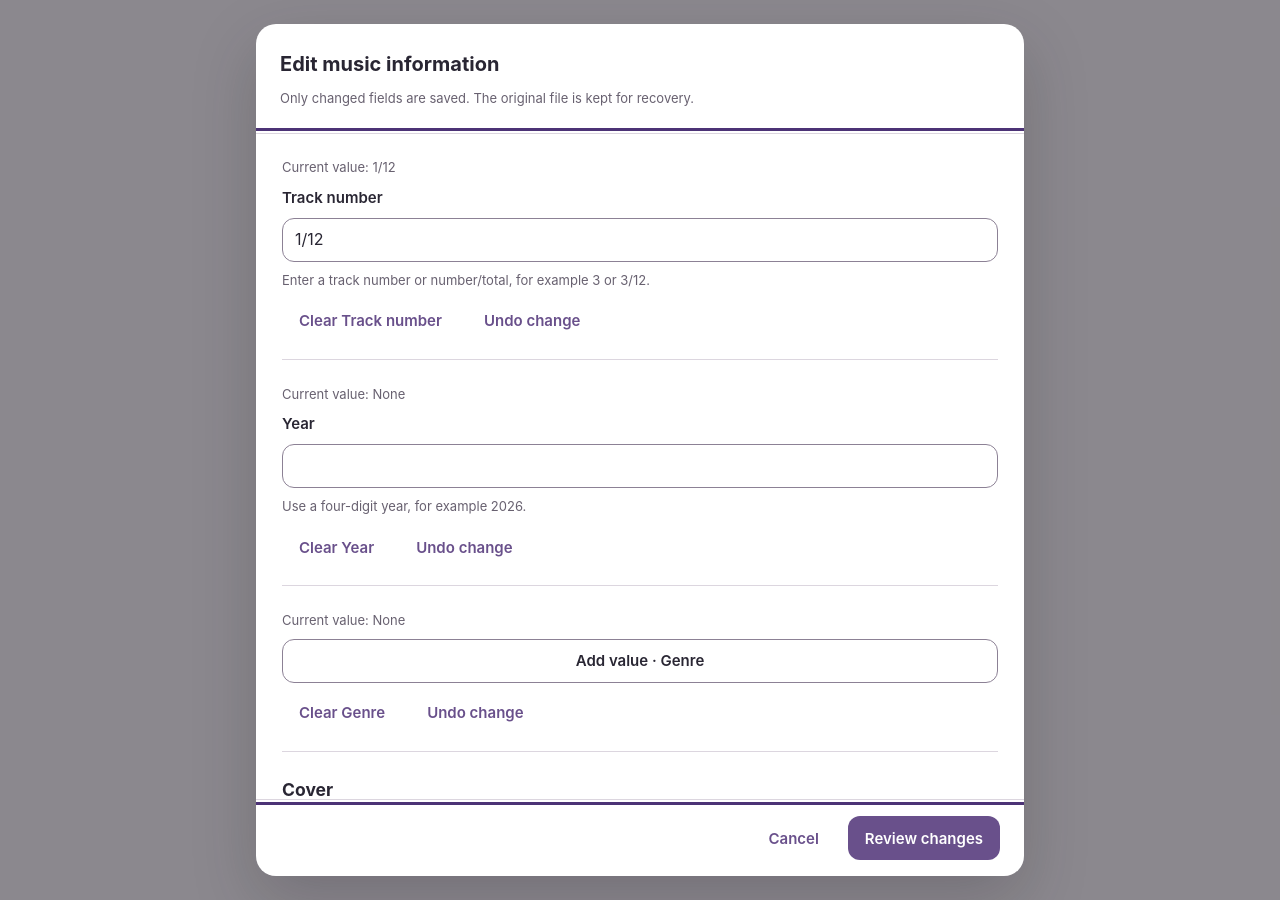
Test: should restore the original absent value when undoing a field edit
(page scrolled)
Type "2026" into the field labelled "Year" at [640, 466], box [282,444,998,488]
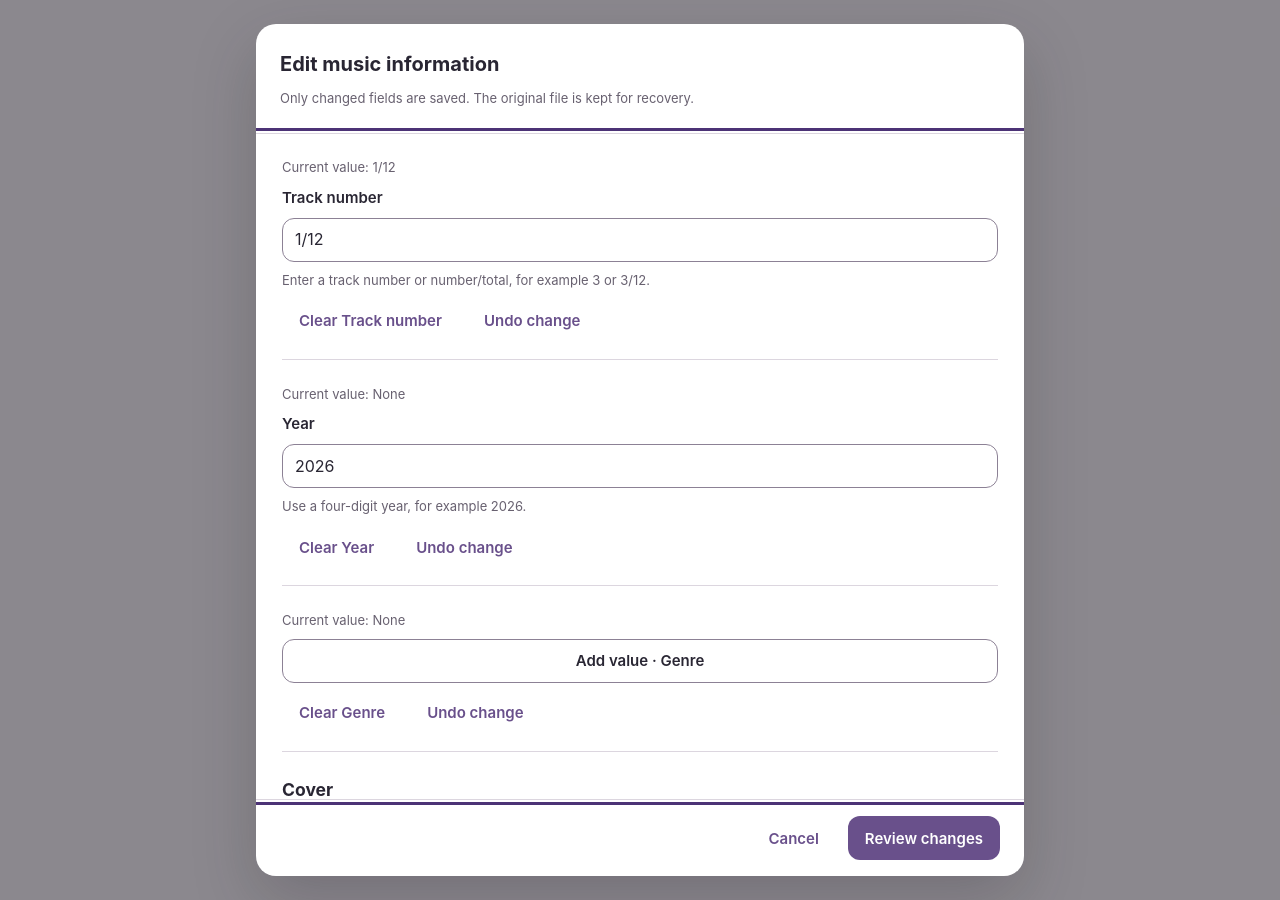
Click the button "Undo change" below "Use a four-digit year, for example 2026." at [464, 547], box [399,525,530,569]
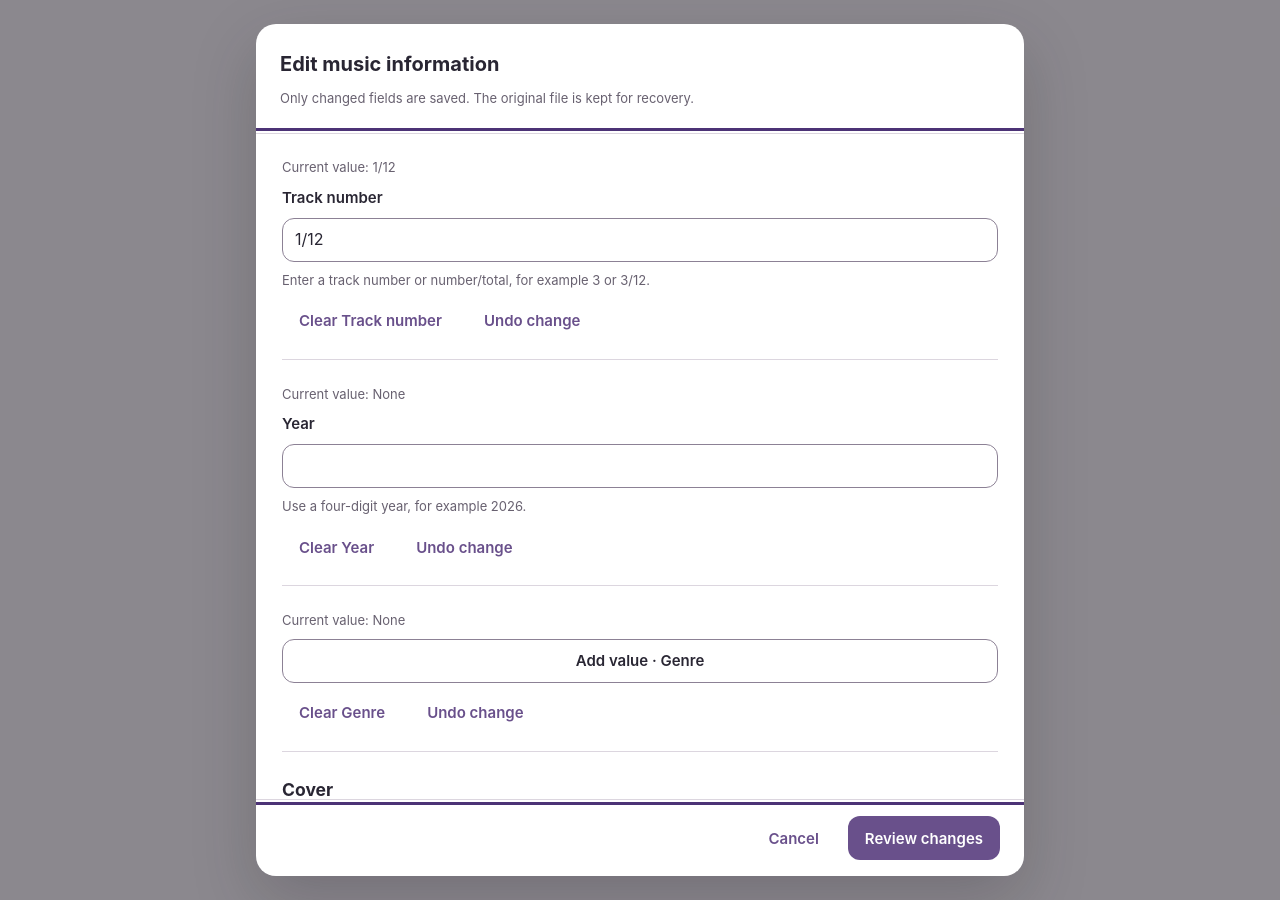
Click the button "Review changes" at [924, 838], box [848,816,1000,860]
(page scrolled)
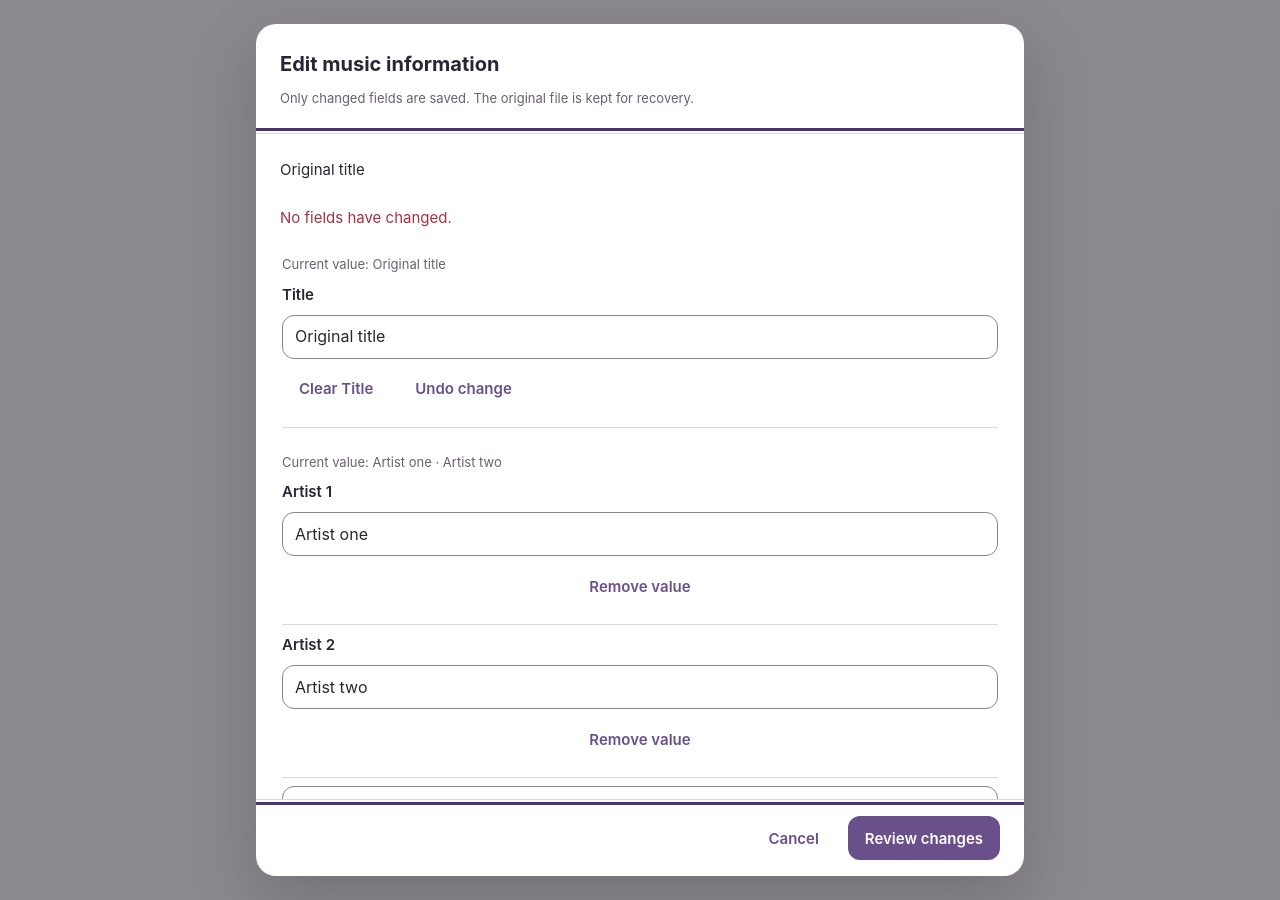
Now the text "No fields have changed." is shown, box [280,208,452,227]
